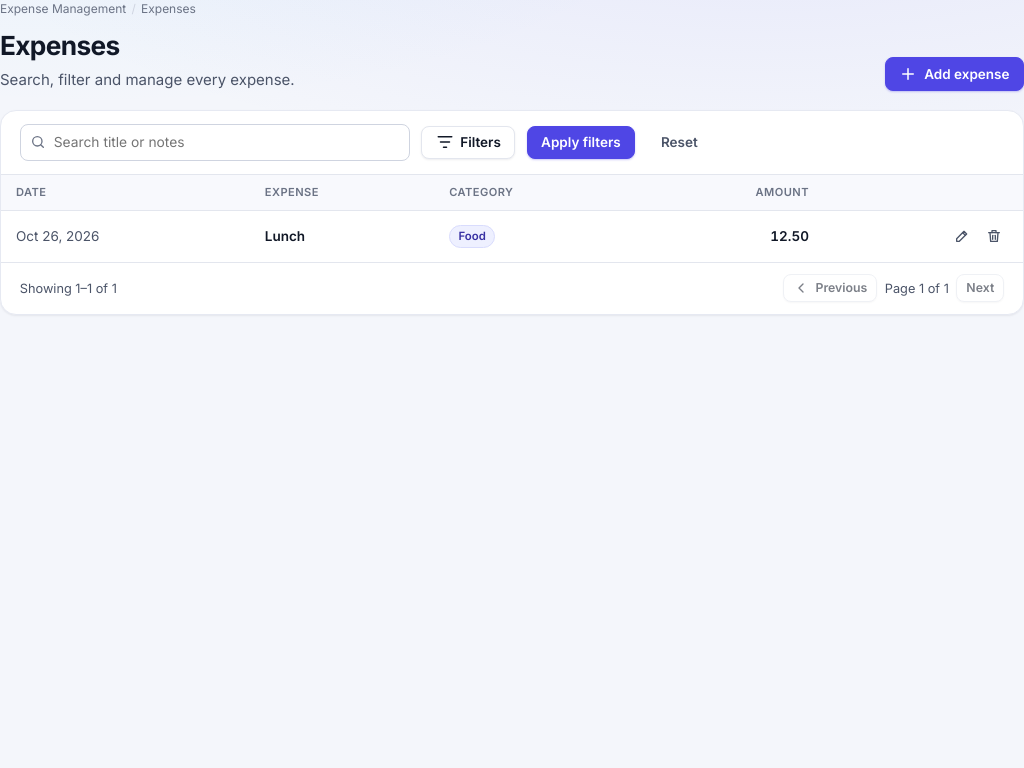
it: ExpensesPage › delete failure → error toast
The image size is (1024, 768).
Expected: the cell "Lunch" is shown, [250, 211, 434, 262]
Click the 2nd button named "Delete Lunch".
click(994, 236)  # box [980, 222, 1008, 250]
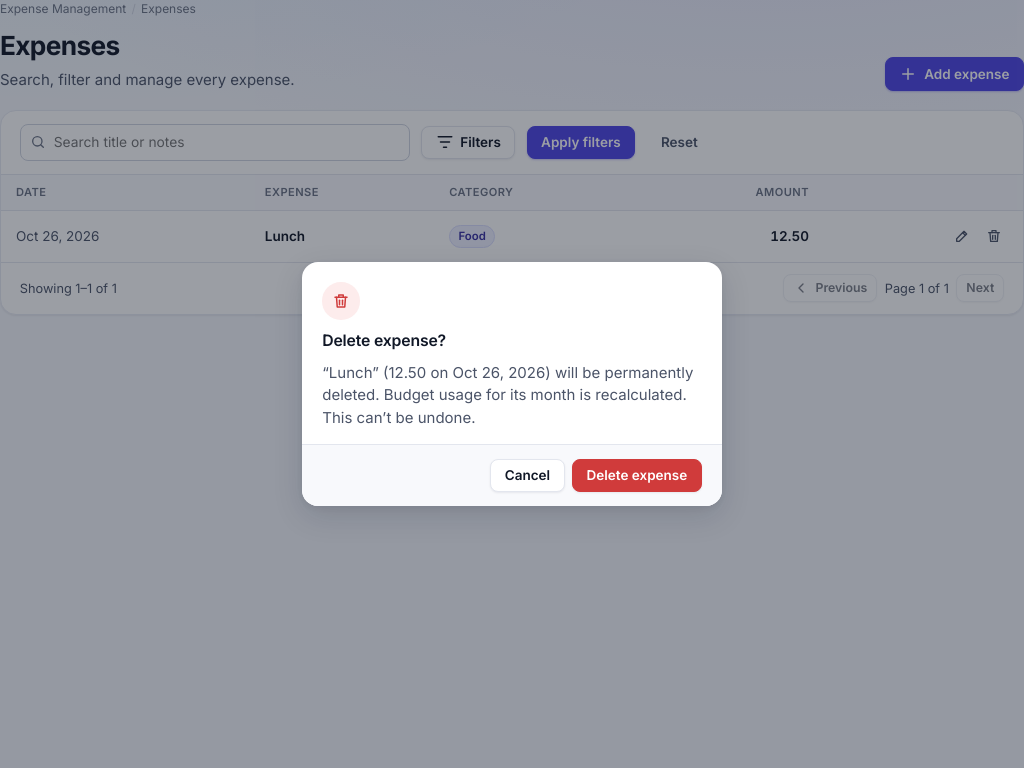
Click the button "Delete expense".
click(637, 476)  # box [572, 459, 702, 492]
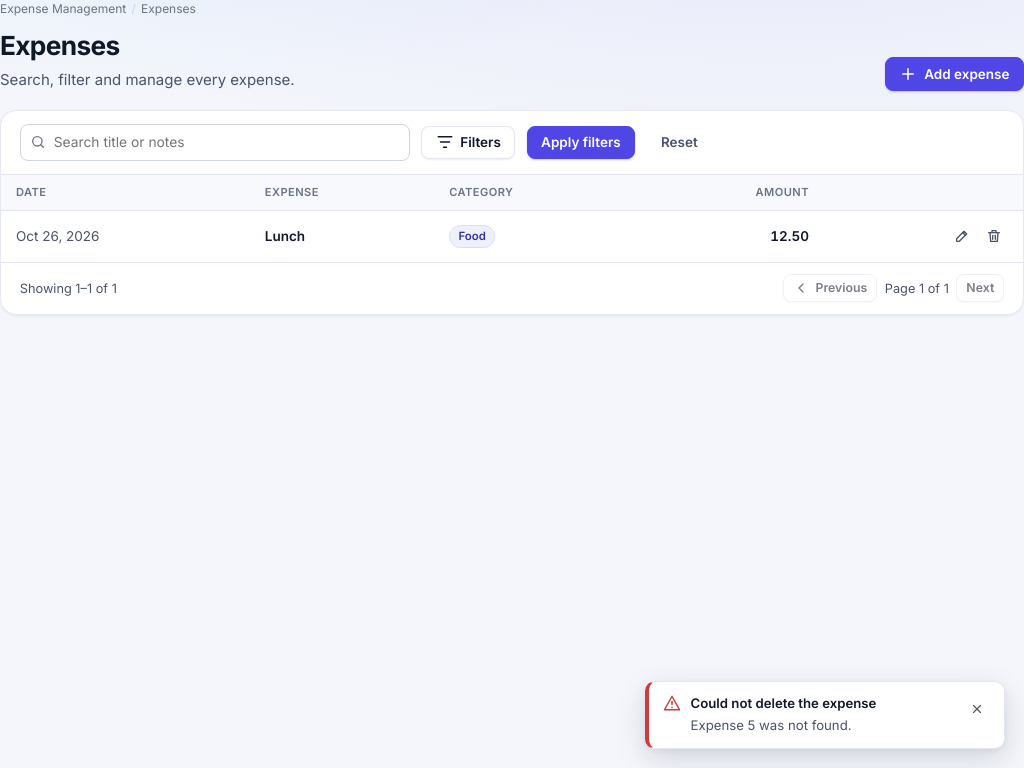
Result: the text "Expense 5 was not found." is shown at [690, 718, 852, 734]
